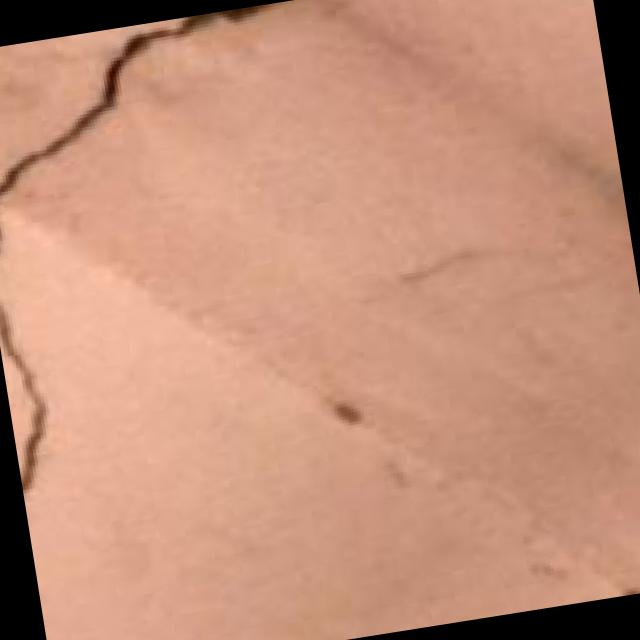crack: (0, 3, 358, 496)
